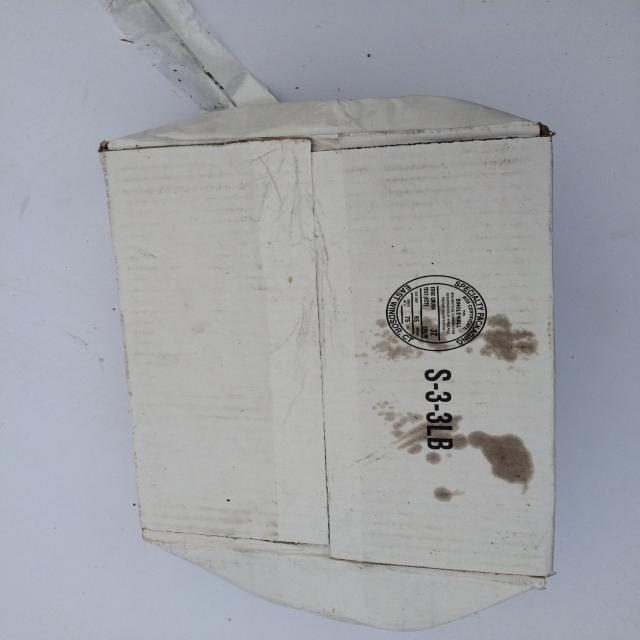cardboard: (97, 95, 558, 631)
